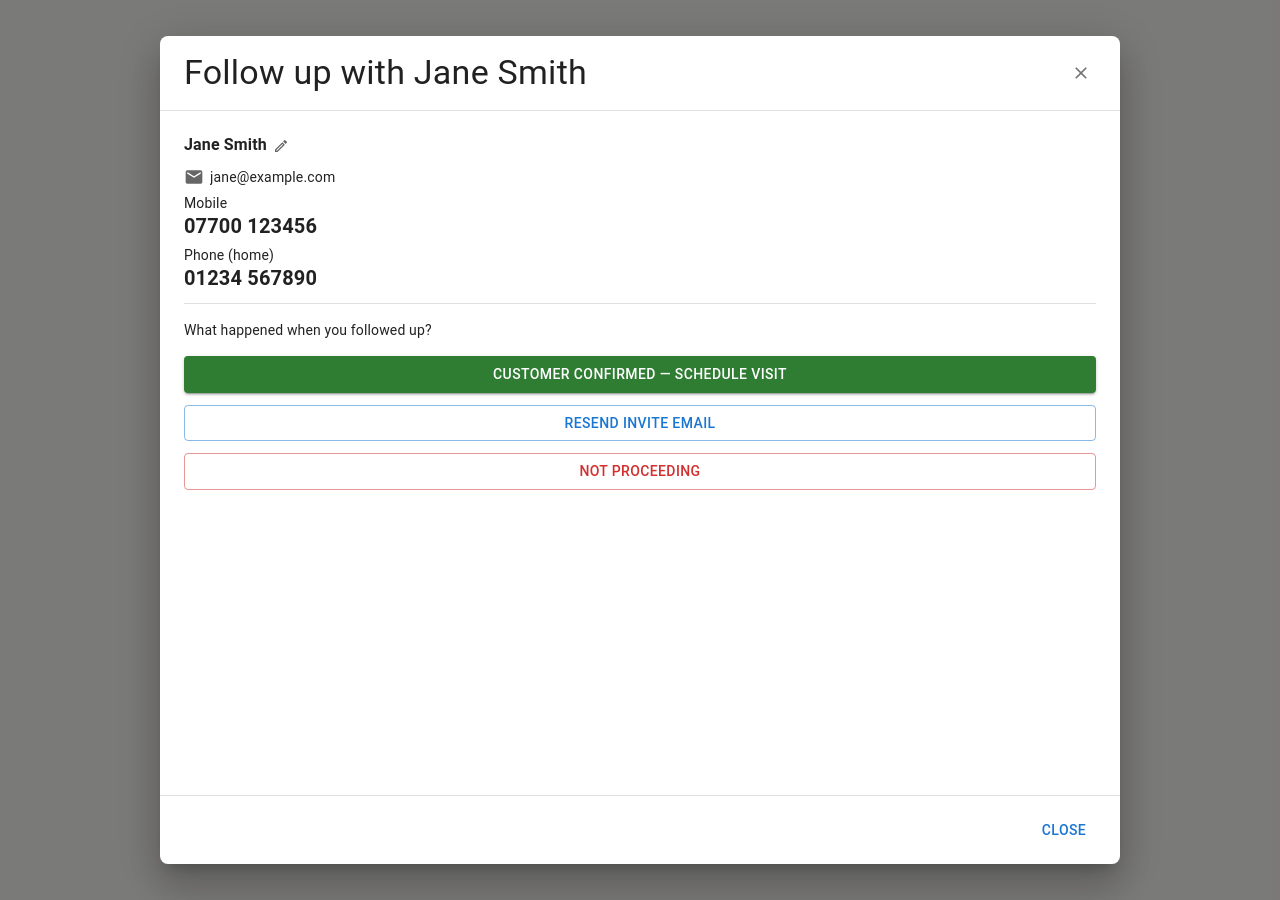
it: DesignVisitFollowupModal — duplicate-visit guard › shows "Existing visit found" dialog when a future event exists
Click the button with test id "dvf-confirmed" at point(640, 374), box [184,356,1096,392]
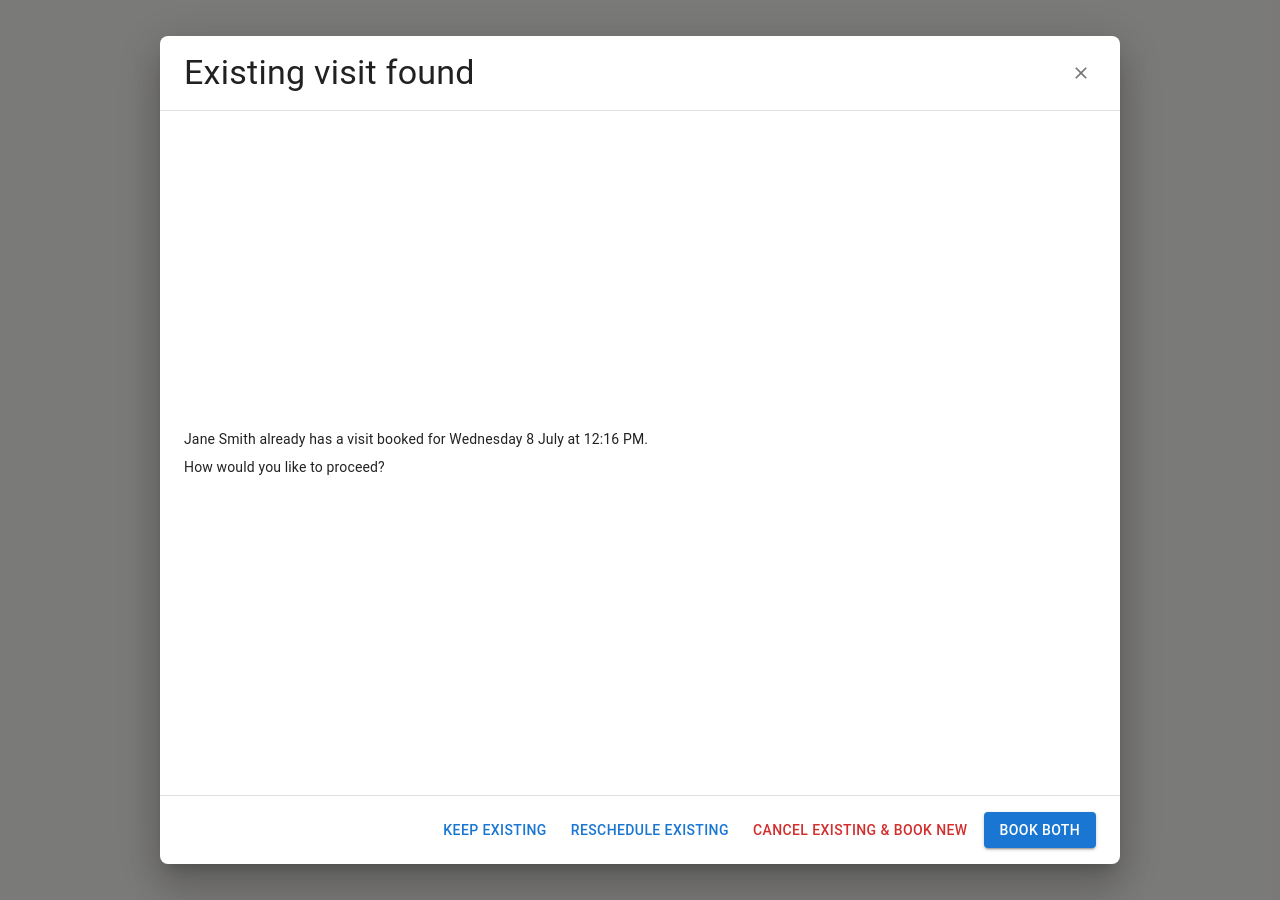
Result: the heading "Existing visit found" is shown at [184,52,475,92]
